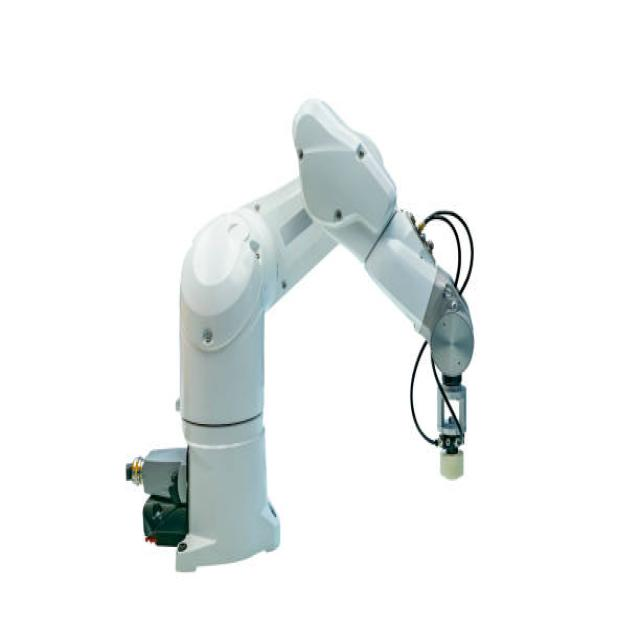Robotic-arm: (114, 85, 483, 583)
